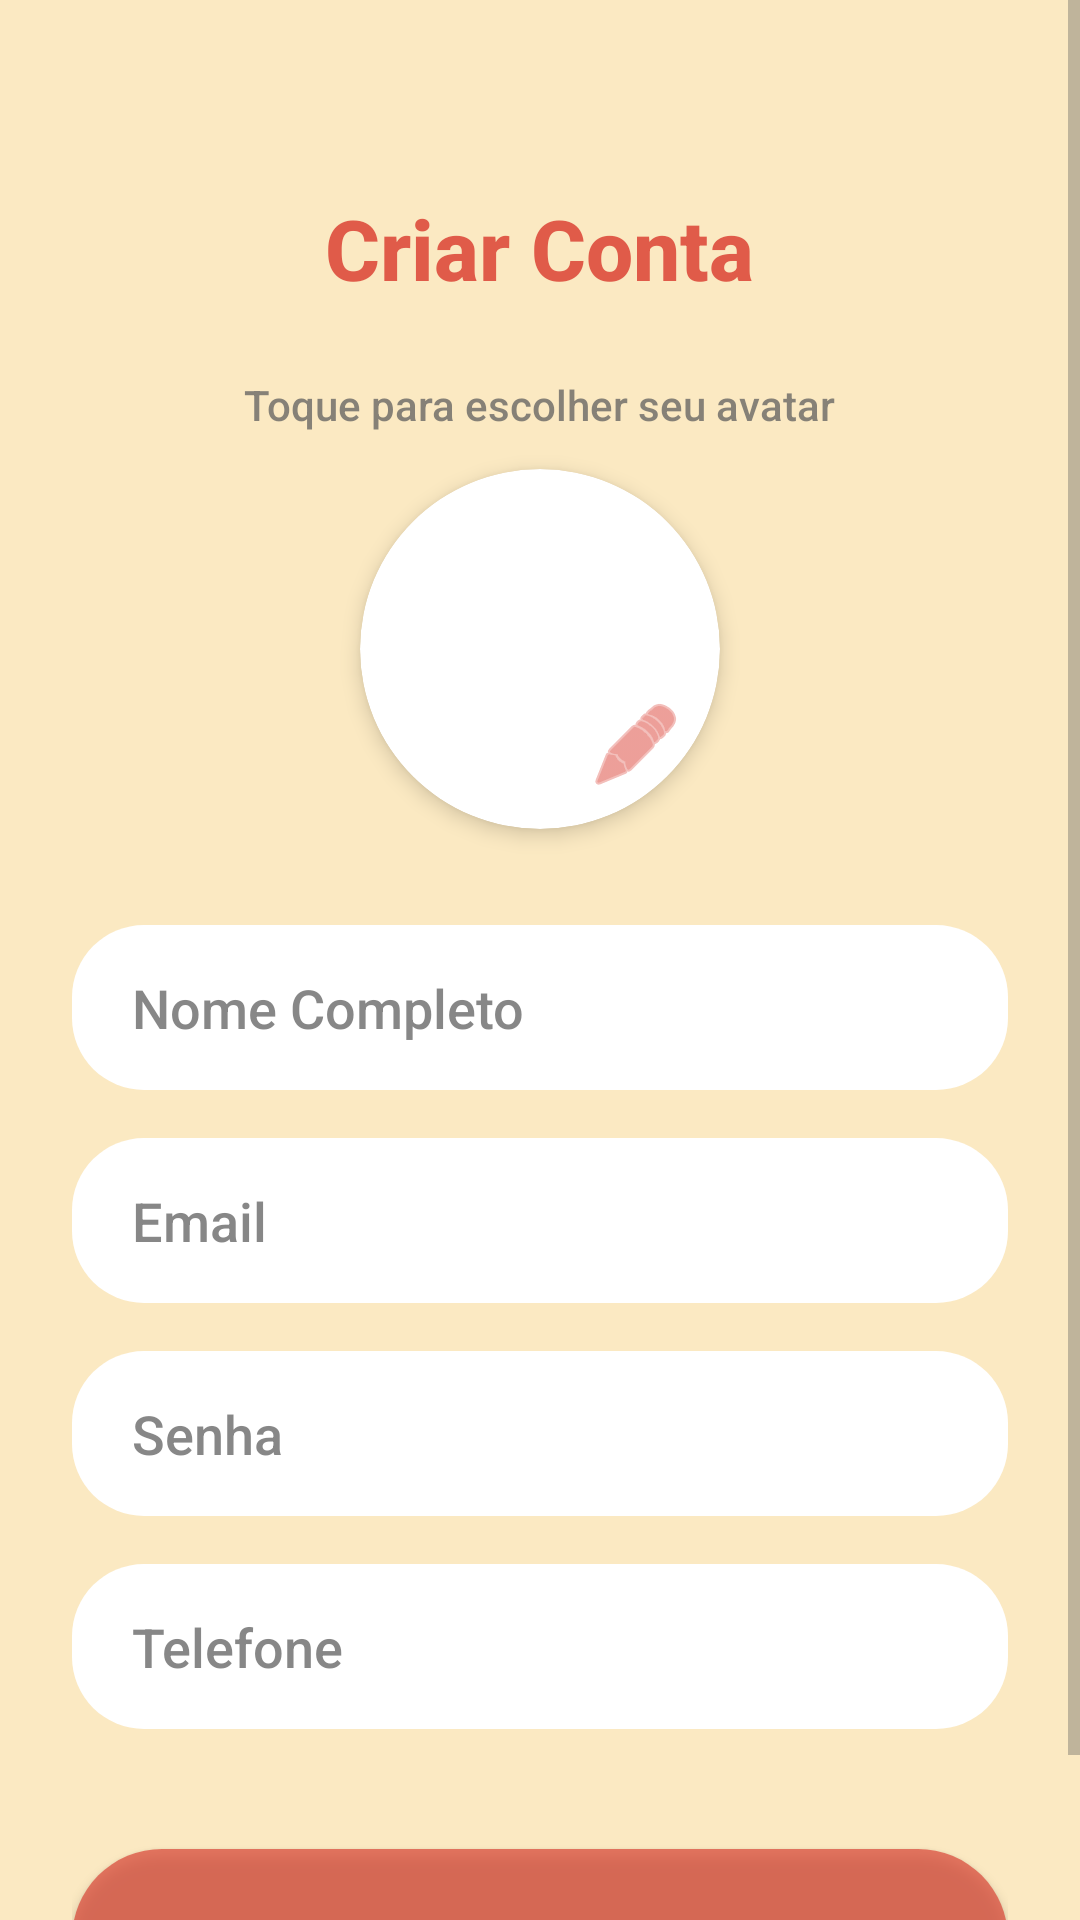

Where icons sit on this 1080*1920 app screen, as (x1, y1, x2, y2):
edit: (595, 704, 676, 785)
